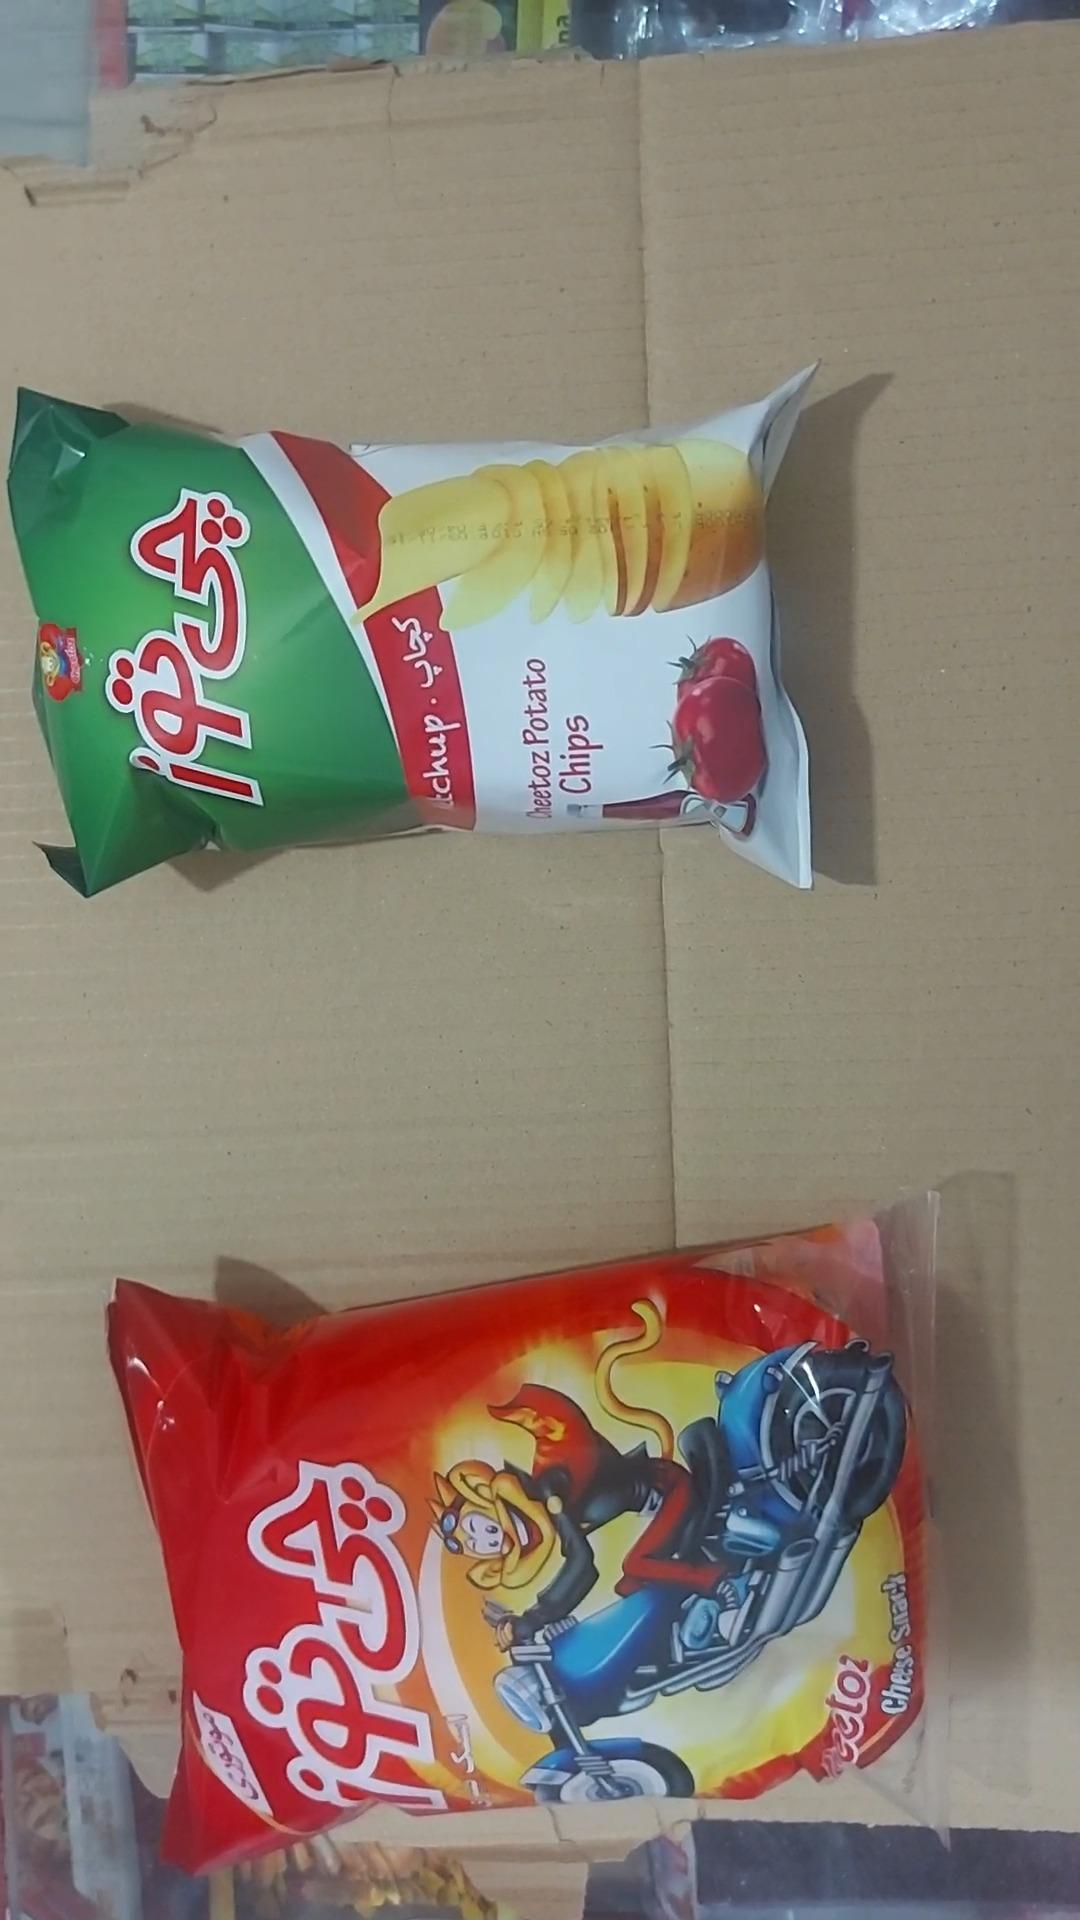Cheetoz ketchup chips: (7, 367, 818, 899)
Cheetoz snack 90g: (107, 1193, 951, 1878)
